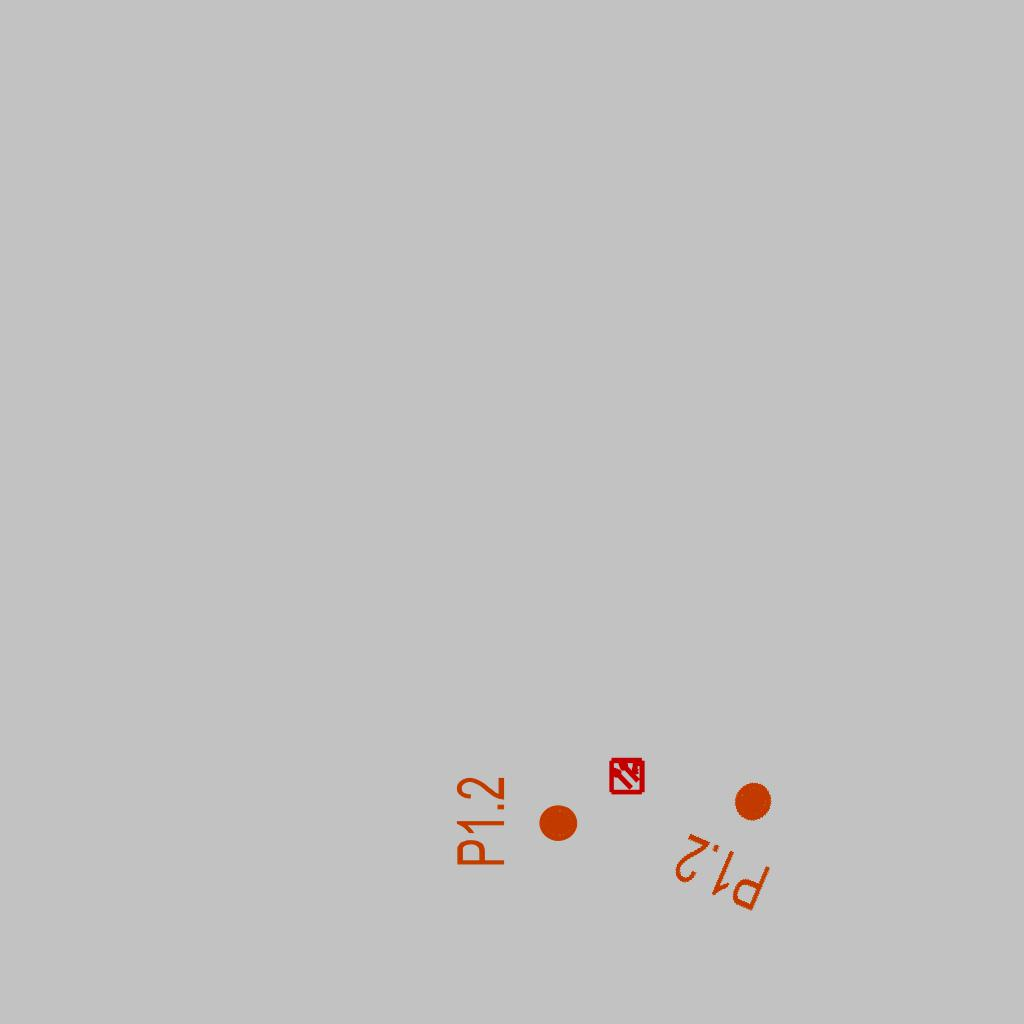Downlight_LED_Einbauleuchten_Flur: (667, 761, 804, 917), (453, 775, 581, 868)
OT_Multisensormelder_(Kombination_RMO_WMD): (599, 747, 655, 803)
